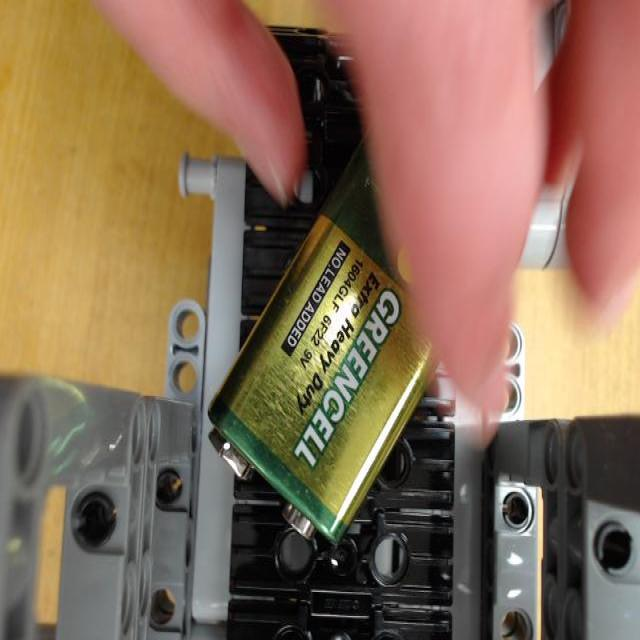9V: (196, 221, 408, 543)
